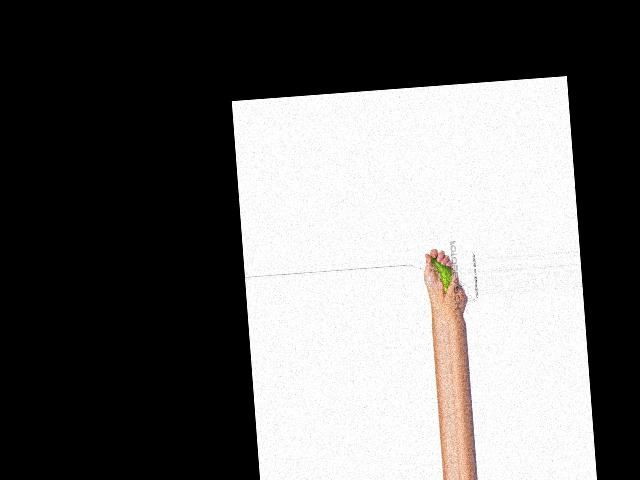cucumber: (431, 255, 454, 295)
